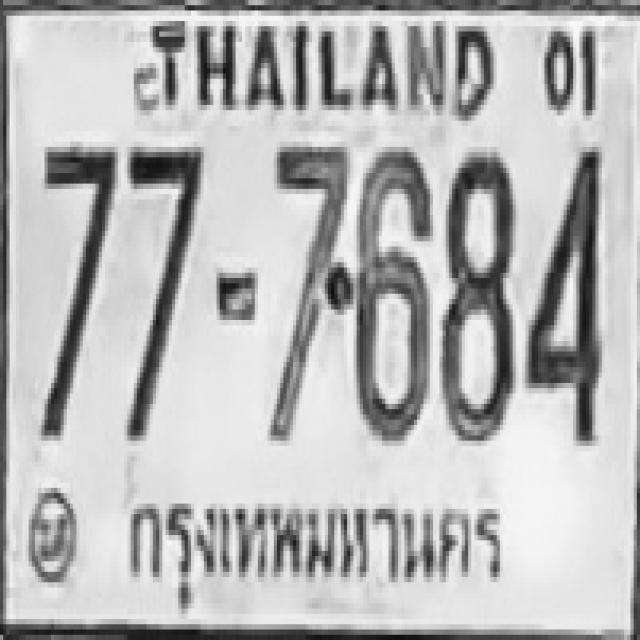4: (525, 142, 602, 440)
6: (352, 144, 431, 438)
7: (266, 142, 349, 440), (38, 142, 115, 436), (124, 142, 201, 436), (42, 142, 114, 388)
8: (440, 150, 512, 438)
Bangkok: (118, 478, 521, 615)
